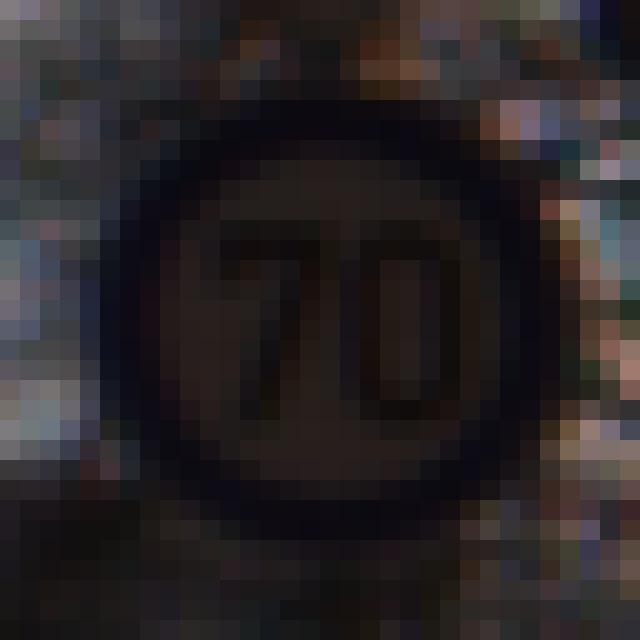SPEED LIMIT 70: (100, 101, 572, 539)
